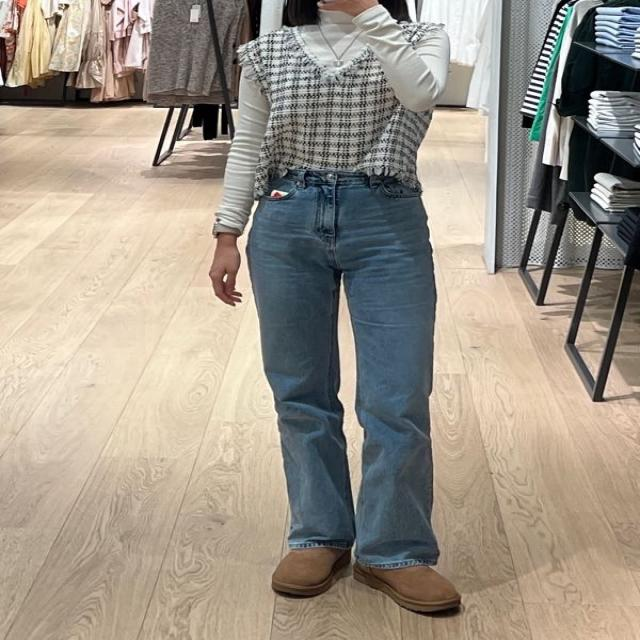denimpants: (244, 172, 438, 573)
longsleeve: (214, 3, 451, 238)
